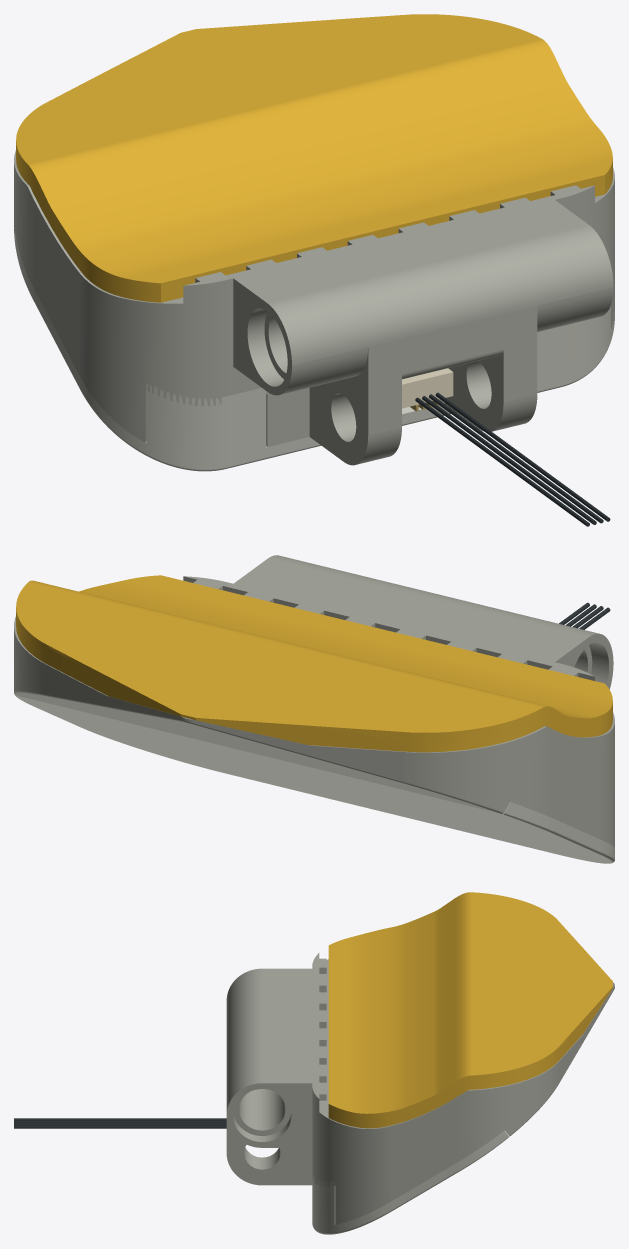
Rendered from gripper-32.glb.
3 views of the same model, one above another, from view 1: azimuth 30°, elevation 25°; view 2: azimuth 150°, elevation 25°; view 3: azimuth 270°, elevation 25° (orthographic). The views are drawn at different scales.
Parts seen in each view (by area): view 1: Silicone_cap, Structural_body, Source_cover, Connector_illustrative, Wire_4_illustrative, Wire_1_illustrative, Wire_3_illustrative, Wire_2_illustrative; view 2: Silicone_cap, Structural_body, Source_cover; view 3: Silicone_cap, Structural_body, Source_cover, Wire_2_illustrative, Wire_4_illustrative, Wire_1_illustrative, Wire_3_illustrative.
Part boxes in pixels (left/top/right/bottom): Silicone_cap: left=16, top=14, right=612, bottom=302; Structural_body: left=14, top=150, right=614, bottom=465; Source_cover: left=14, top=227, right=614, bottom=471; Connector_illustrative: left=402, top=368, right=453, bottom=408; Wire_4_illustrative: left=435, top=392, right=610, bottom=521; Wire_1_illustrative: left=415, top=397, right=589, bottom=526; Wire_3_illustrative: left=429, top=394, right=603, bottom=523; Wire_2_illustrative: left=422, top=396, right=596, bottom=524; Silicone_cap: left=16, top=575, right=612, bottom=752; Structural_body: left=14, top=555, right=614, bottom=847; Source_cover: left=14, top=694, right=614, bottom=863; Silicone_cap: left=328, top=892, right=612, bottom=1128; Structural_body: left=226, top=953, right=614, bottom=1224; Source_cover: left=312, top=1130, right=509, bottom=1234; Wire_2_illustrative: left=14, top=1120, right=226, bottom=1123; Wire_4_illustrative: left=14, top=1125, right=226, bottom=1128; Wire_1_illustrative: left=14, top=1118, right=226, bottom=1120; Wire_3_illustrative: left=14, top=1123, right=226, bottom=1125.
Size of the model in its own units: 0.0615 by 0.0279 by 0.0842.
